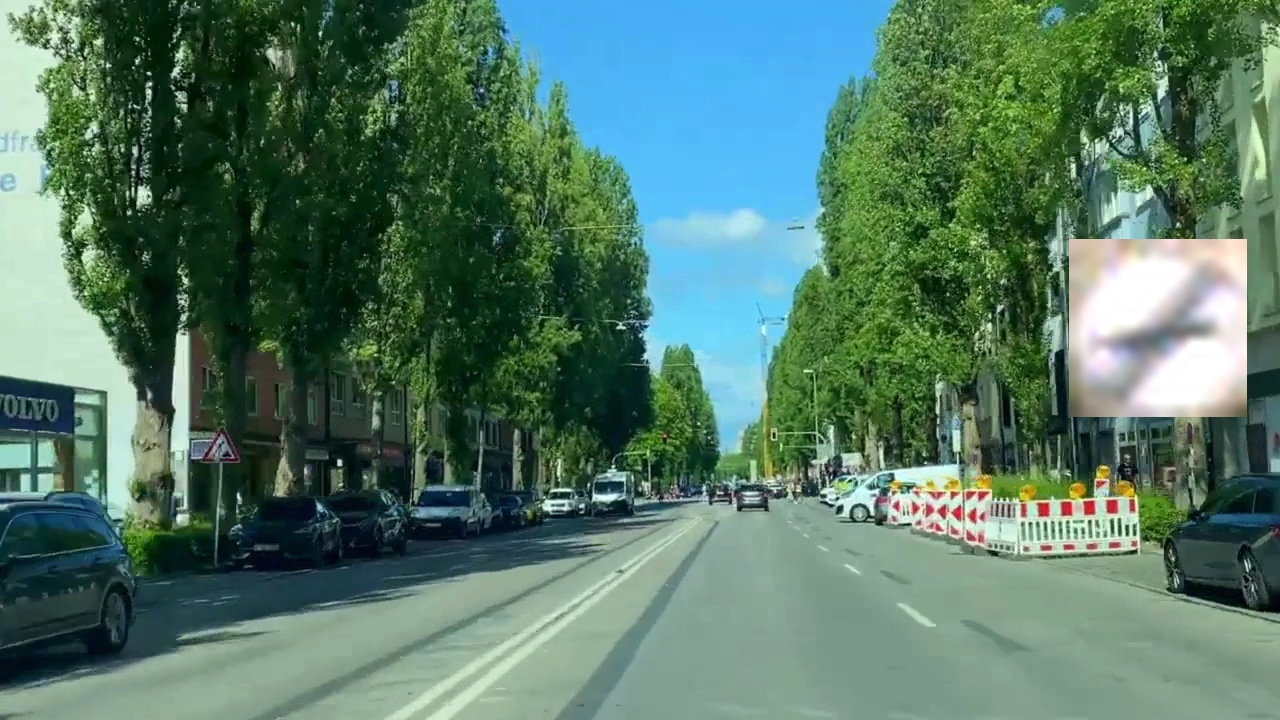End no pass: (1069, 239, 1247, 417)
